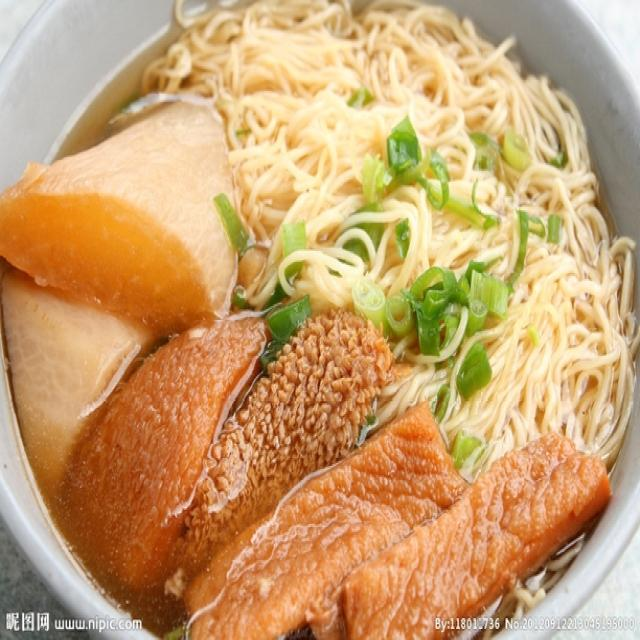面条主食: (22, 18, 625, 614)
